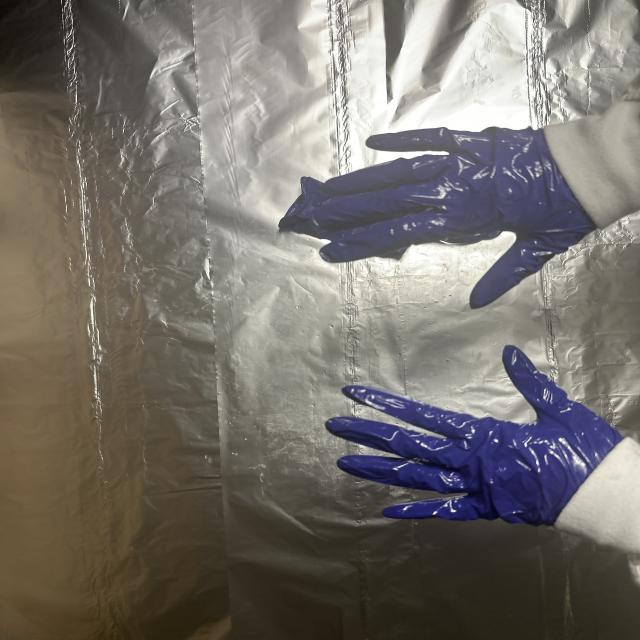gloves_contaminated: (281, 128, 600, 308), (326, 346, 622, 526)
